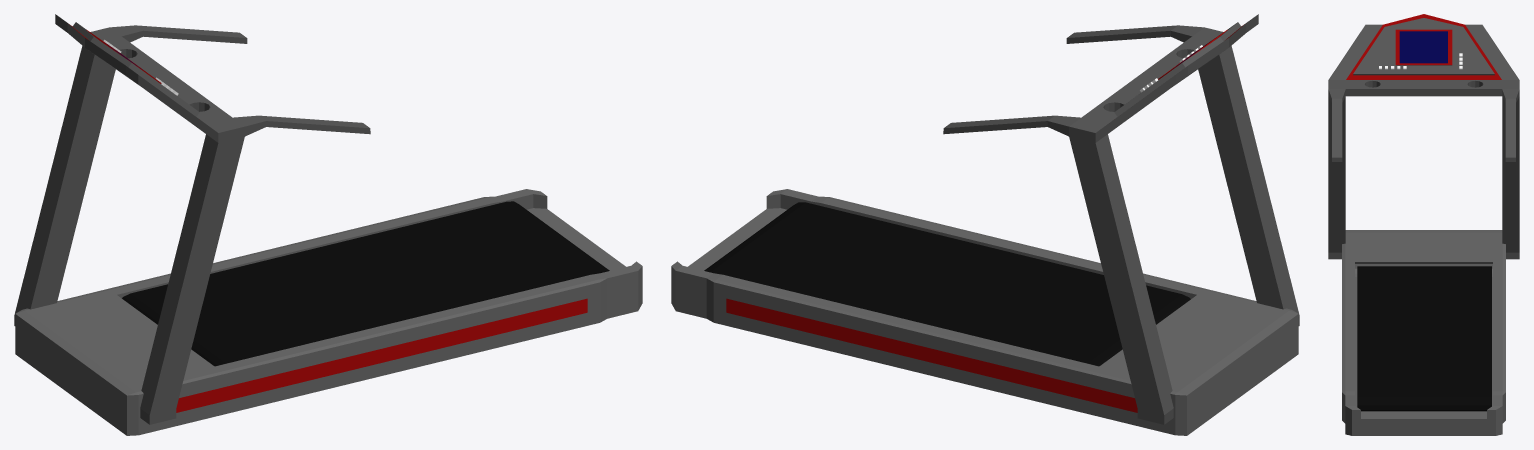
Rendered from TreadMill.001.fbx.
3 views of the same model, side by side, from view 1: azimuth 30°, elevation 25°; view 2: azimuth 150°, elevation 25°; view 3: azimuth 270°, elevation 25° (orthographic). The views are drawn at different scales.
Parts seen in each view (by area): view 1: Treadmill.001; view 2: Treadmill.001; view 3: Treadmill.001.
Part boxes in pixels (box(x1,y1,x2,y2)): Treadmill.001: box(14, 14, 642, 435); Treadmill.001: box(671, 14, 1299, 435); Treadmill.001: box(1328, 14, 1519, 435).
Size of the model in its own units: 222 by 145 by 100.
